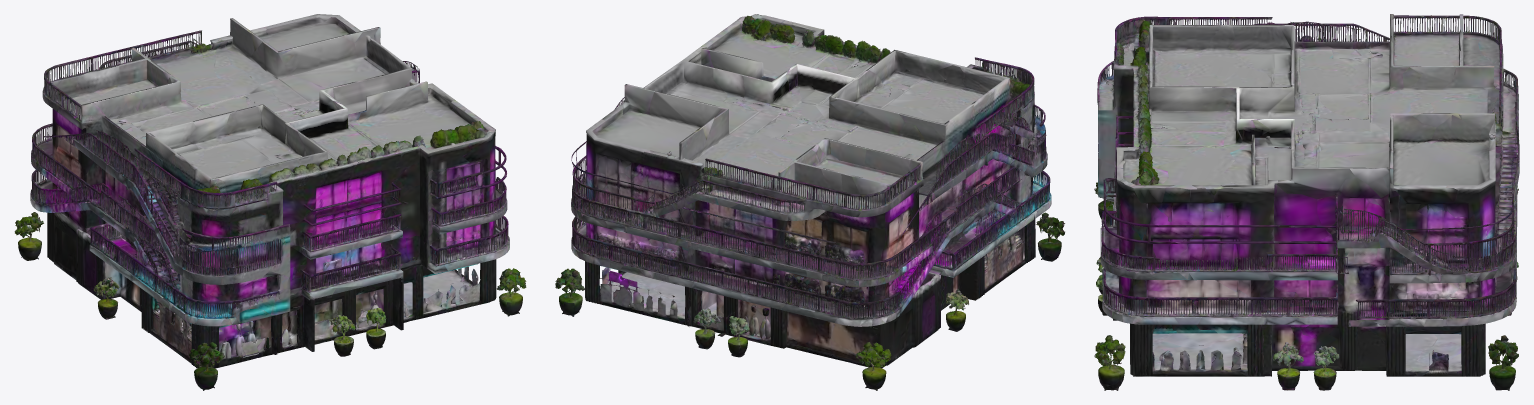
The model's file is b3_terrace_block_runtime.glb.
3 views of the same model, side by side, from view 1: azimuth 30°, elevation 25°; view 2: azimuth 150°, elevation 25°; view 3: azimuth 270°, elevation 25° (orthographic). The views are drawn at different scales.
Size of the model in its own units: 1.9 by 1.06 by 1.9.
1 material, 1 textured.
